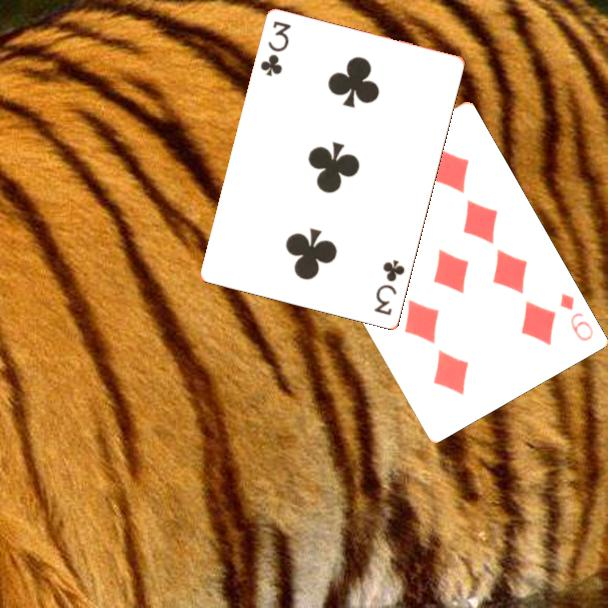c03: (371, 256, 408, 319), (257, 18, 294, 80)
d09: (556, 289, 596, 344)
